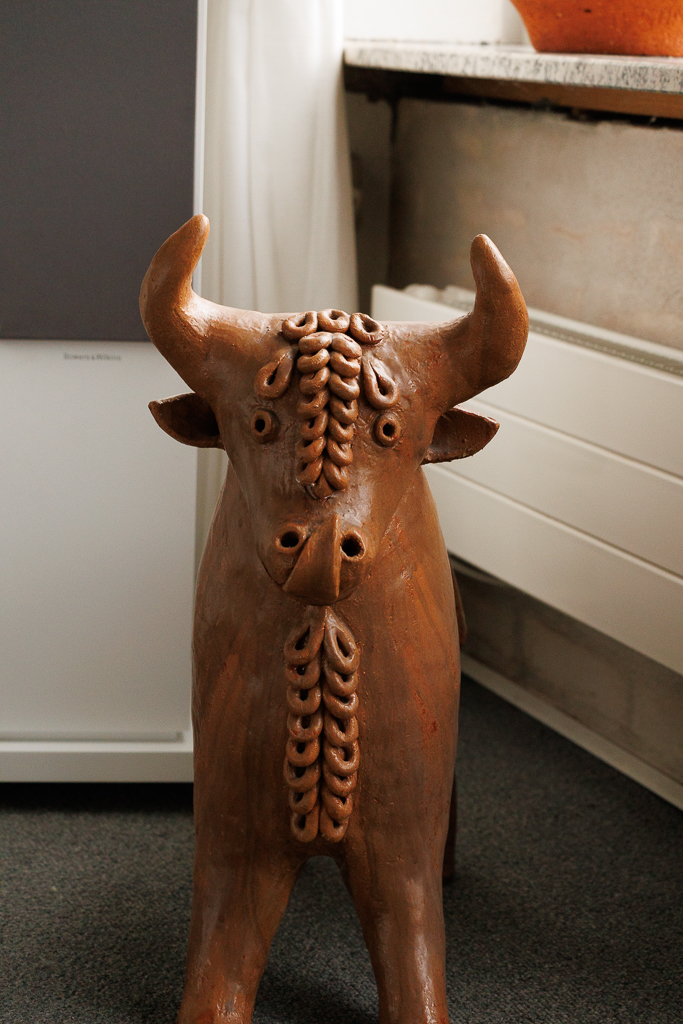Cattle: (121, 191, 538, 1024)
